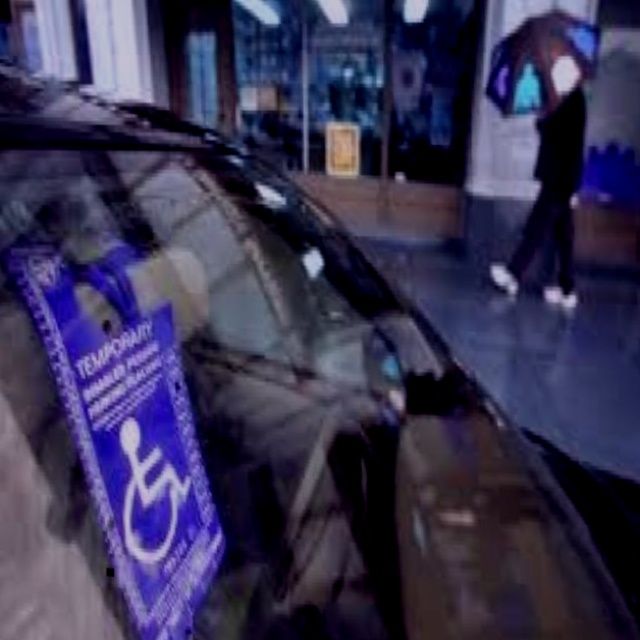ISA: (118, 416, 193, 567)
